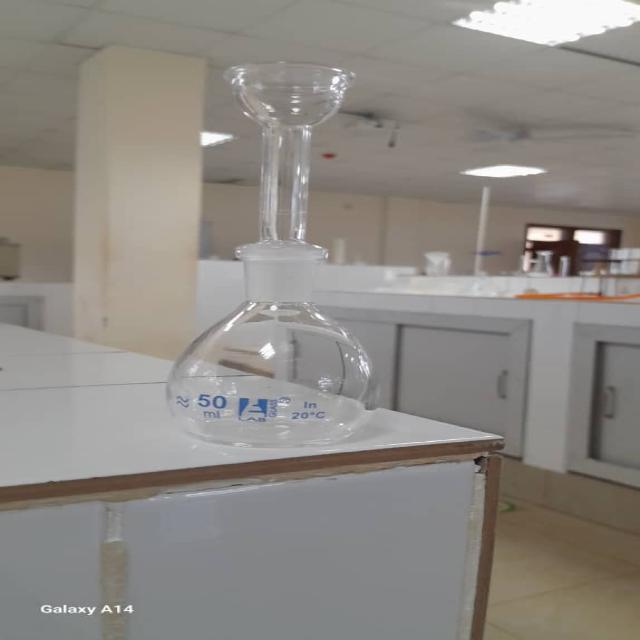Density Bottles for Solids: (152, 58, 418, 452)
